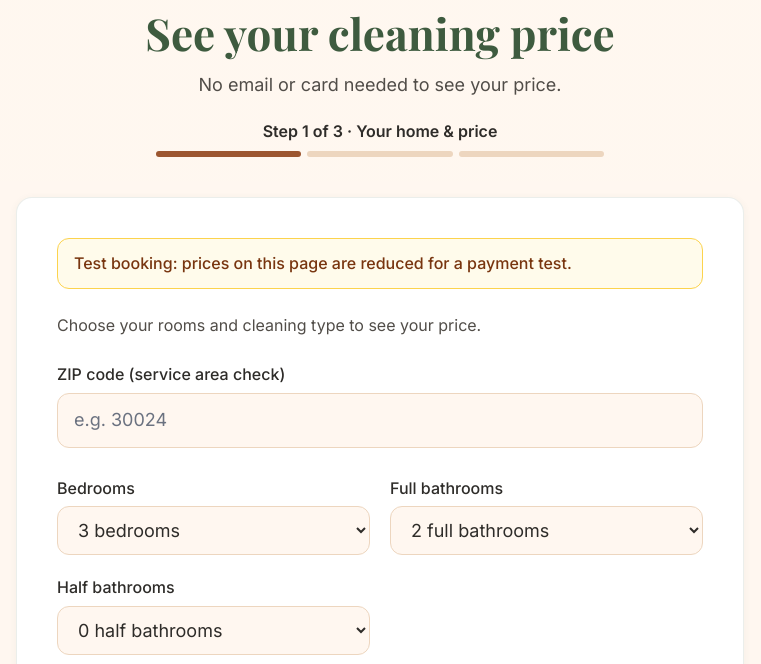
Test: quote: price summary under the ZIP (ChatGPT #3) › shows no summary for an unsupported ZIP, and the custom-quote hint for a 6-bedroom home
Type "99999" into the field labelled "ZIP code (service area check)" at (380, 420), box [57,393,703,448]
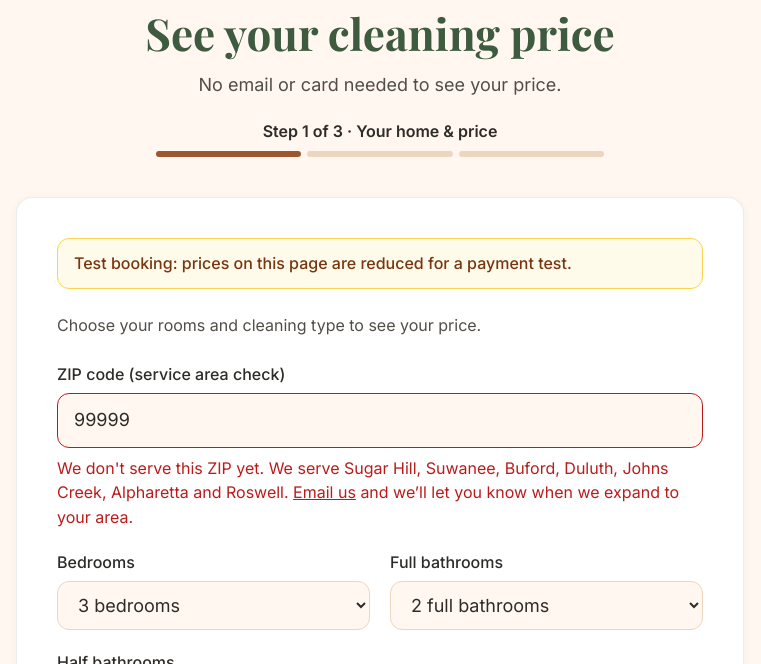
Check: the text "per visit, every other week · $0 due today" is not shown
Replace the text in the field labelled "ZIP code (service area check)" with "30024" at (380, 420), box [57,393,703,448]
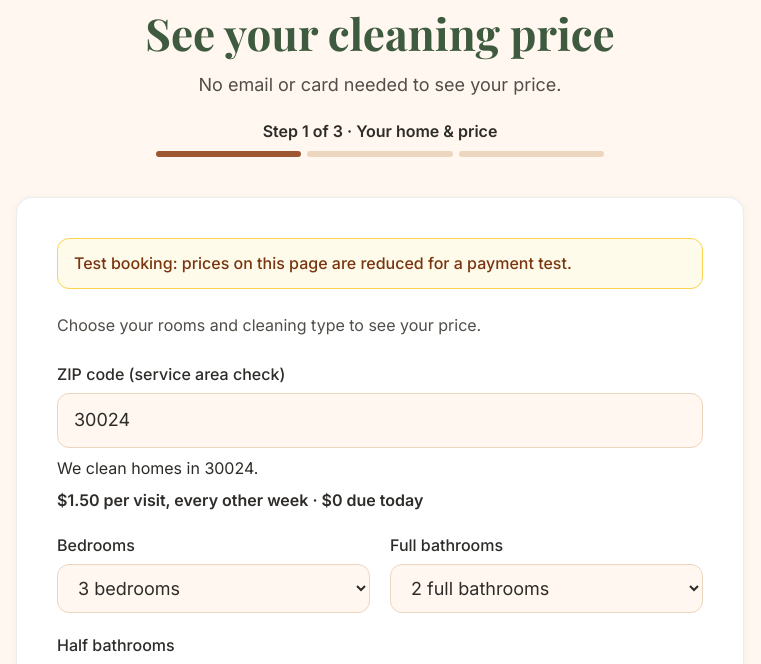
Select "6 bedrooms" in the dropdown labelled "Bedrooms" at (214, 588), box [57,564,370,613]
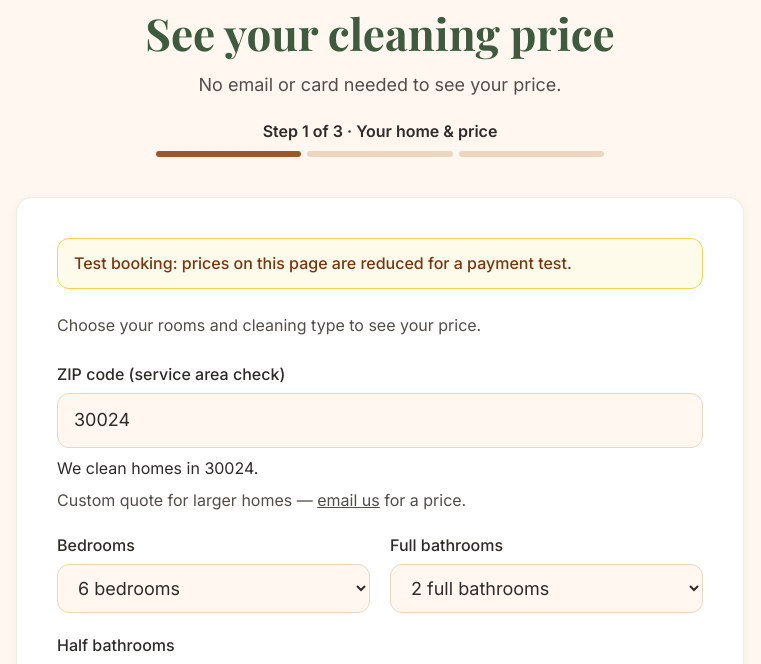
Check: the text "Custom quote for larger homes — email us for a price." is shown, box [57,490,466,510]
Check: the text "per visit, every other week · $0 due today" is gone
